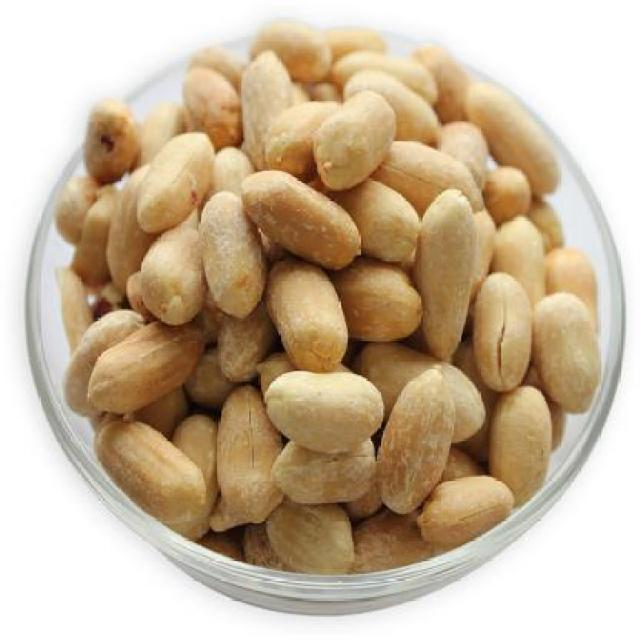Frutta secca: (54, 22, 604, 570)
